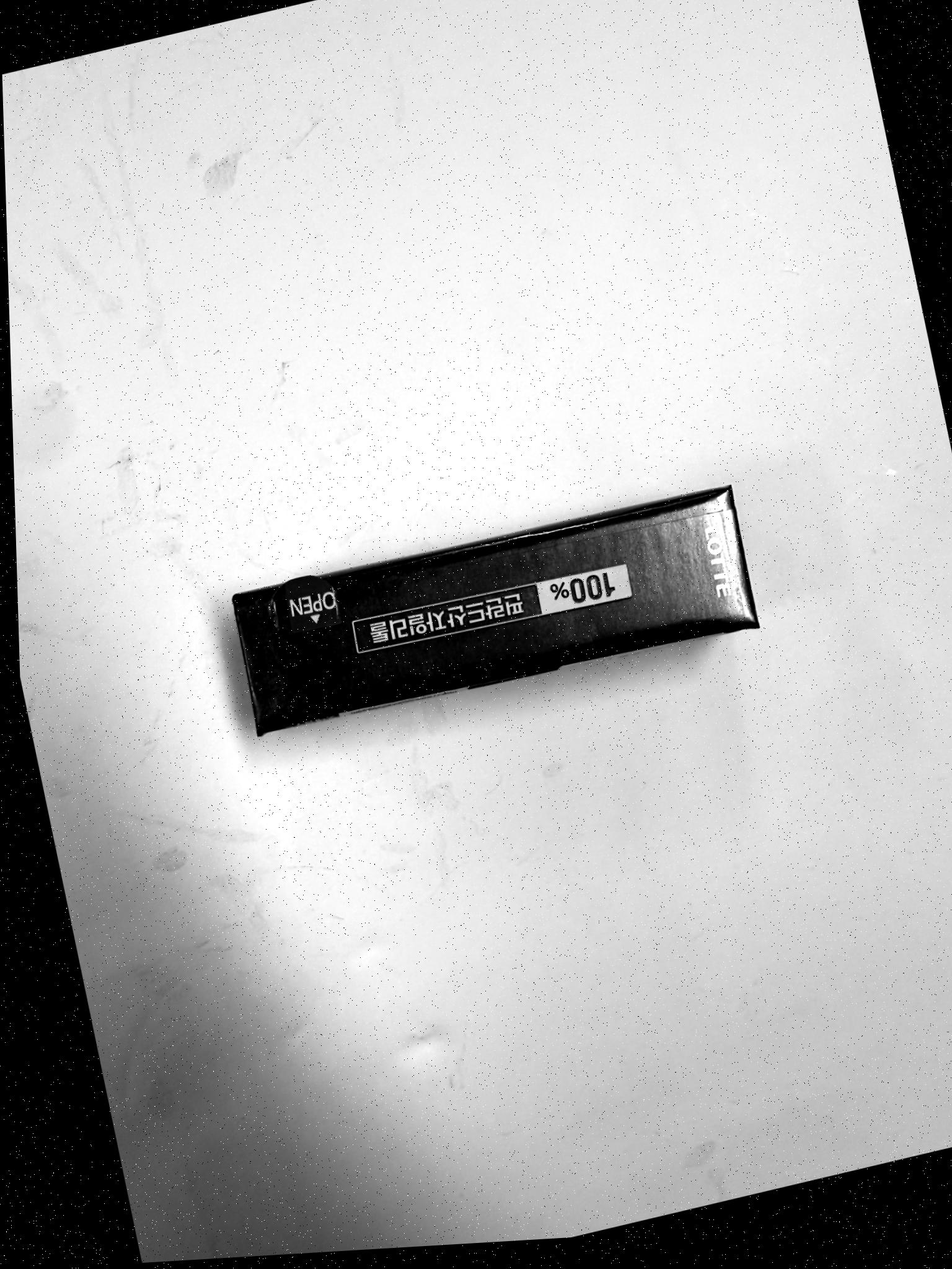gum_green: (233, 488, 759, 734)
